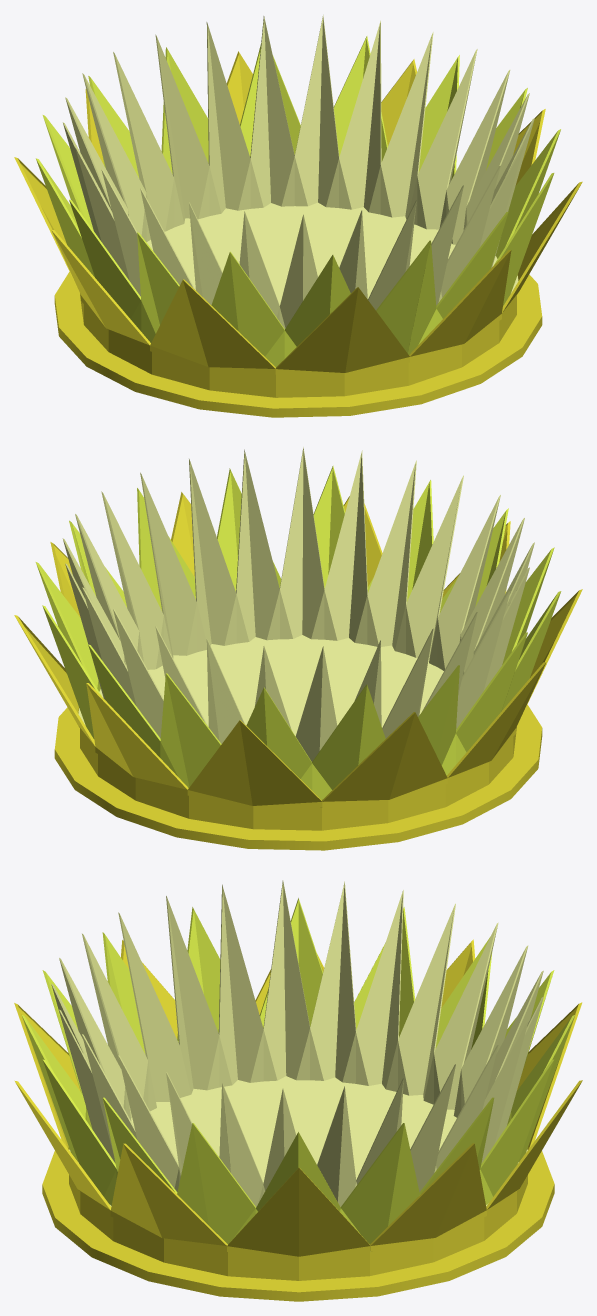
File: portal_000001.obj
3 views of the same model, one above another, from view 1: azimuth 30°, elevation 25°; view 2: azimuth 150°, elevation 25°; view 3: azimuth 270°, elevation 25° (orthographic). The views are drawn at different scales.
Visible parts, largest first — view 1: Cylinder.001, pCylinder1, Cylinder; view 2: Cylinder.001, pCylinder1, Cylinder; view 3: Cylinder.001, pCylinder1, Cylinder.
Boxes of the visible parts, <box> form: Cylinder.001: <box>63,15,534,328</box>; pCylinder1: <box>14,51,582,417</box>; Cylinder: <box>36,36,560,366</box>; Cylinder.001: <box>62,447,534,761</box>; pCylinder1: <box>14,492,582,850</box>; Cylinder: <box>35,465,561,799</box>; Cylinder.001: <box>51,880,543,1206</box>; pCylinder1: <box>14,939,582,1301</box>; Cylinder: <box>21,898,575,1244</box>.
Bounding box in the file's own units: 7.45 × 2.9 × 7.09.
Materials: 3 (3 with a texture image).
